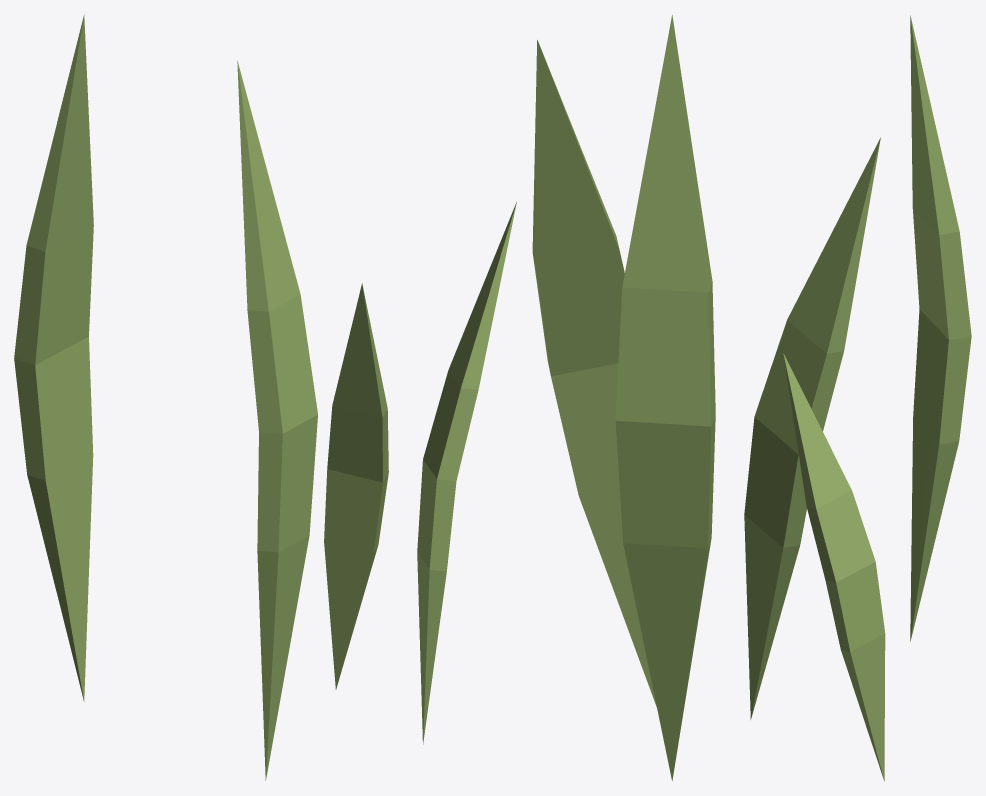
File: Grass_2.fbx
3 renders of one model, left to right at view 1: azimuth 30°, elevation 25°; view 2: azimuth 150°, elevation 25°; view 3: azimuth 270°, elevation 25°, orthographic. The views are drawn at different scales.
Parts seen in each view (by area): view 1: Grass_2; view 2: Grass_2; view 3: Grass_2.
Part boxes in pixels (<box>): Grass_2: <box>14,14,388,780</box>; Grass_2: <box>417,15,715,780</box>; Grass_2: <box>744,15,971,781</box>.
Bounding box in the file's own units: 17.87 × 39.2 × 12.16.
